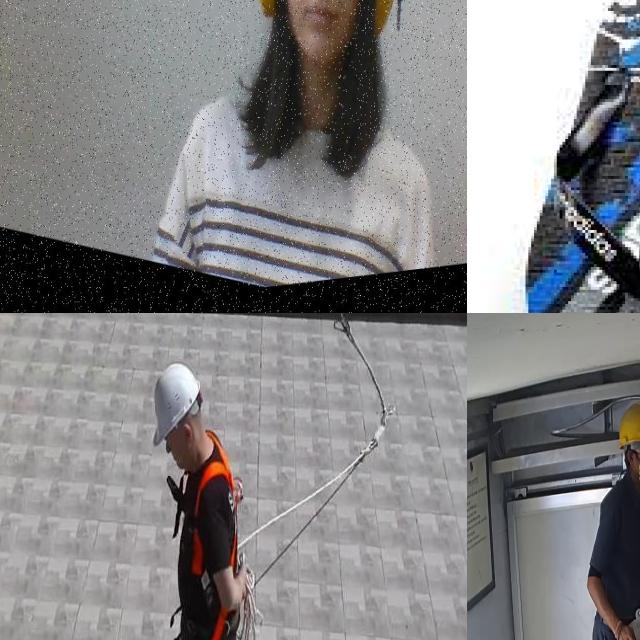Ear-protection: (363, 0, 410, 45), (244, 0, 295, 34)
Harness: (179, 431, 239, 608)
No_Ear-Protection: (626, 447, 637, 468)
Sandals: (494, 0, 640, 313)
glasses: (626, 441, 640, 451)
hand_noglove: (619, 626, 637, 640)
head_helmet: (619, 401, 640, 447)
